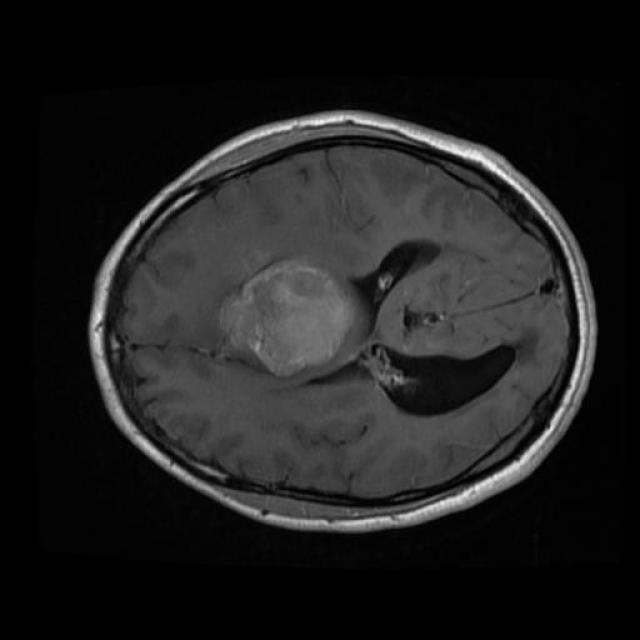Meningioma: (218, 261, 368, 377)
